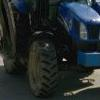Tractor: (9, 3, 100, 100)
